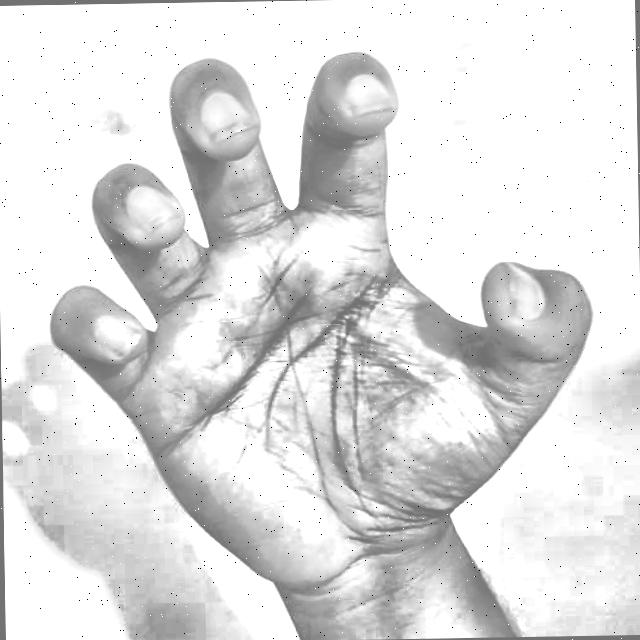Ja: (25, 24, 605, 640)
